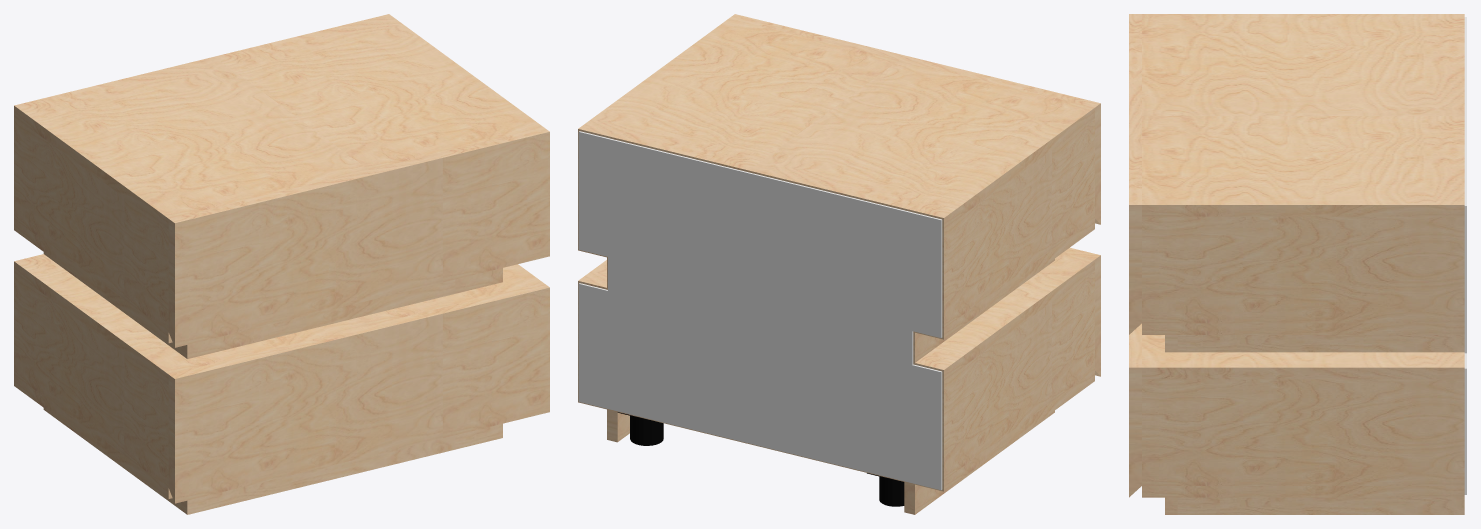
File: Cajonera.glb
The picture shows the model from 3 angles, left to right: view 1: azimuth 30°, elevation 25°; view 2: azimuth 150°, elevation 25°; view 3: azimuth 270°, elevation 25°; orthographic projection. The views are drawn at different scales.
Visible parts, largest first — view 1: Mesh8 Group7 Group1 Model, Mesh9 Diferencia1 Group1 Model, Mesh19 Diferencia1_1 Group1 Model, Mesh21 Group13 Group1 Model, Mesh1 Group2 Group1 Model, Mesh17 Unir2 Group1 Model, Mesh15 Group11 Group1 Model, Mesh4 Group4 Group1 Model, Mesh12 Unir1 Group1 Model, Mesh11 Unir Group1 Model; view 2: Mesh8 Group7 Group1 Model, Mesh18 Group12 Group1 Model, Mesh6 Group5 Group1 Model, Mesh21 Group13 Group1 Model, Mesh1 Group2 Group1 Model, Mesh5 Intersecci_n Group1 Model, Mesh17 Unir2 Group1 Model, Mesh9 Diferencia1 Group1 Model, Mesh11 Unir Group1 Model, Mesh12 Unir1 Group1 Model, Mesh3 Group3 Group1 Model, Mesh19 Diferencia1_1 Group1 Model (+4 smaller); view 3: Mesh8 Group7 Group1 Model, Mesh13 Group9 Group1 Model, Mesh23 Group14 Group1 Model, Mesh17 Unir2 Group1 Model, Mesh10 Group8 Group1 Model, Mesh14 Group10 Group1 Model, Mesh9 Diferencia1 Group1 Model, Mesh11 Unir Group1 Model, Mesh12 Unir1 Group1 Model, Mesh19 Diferencia1_1 Group1 Model, Mesh18 Group12 Group1 Model, Mesh6 Group5 Group1 Model.
Part boxes in pixels (x1=…): Mesh8 Group7 Group1 Model: x1=14, y1=14, x2=543, y2=229; Mesh9 Diferencia1 Group1 Model: x1=168, y1=127, x2=549, y2=347; Mesh19 Diferencia1_1 Group1 Model: x1=168, y1=283, x2=549, y2=503; Mesh21 Group13 Group1 Model: x1=14, y1=117, x2=168, y2=331; Mesh1 Group2 Group1 Model: x1=14, y1=273, x2=168, y2=487; Mesh17 Unir2 Group1 Model: x1=14, y1=254, x2=543, y2=385; Mesh15 Group11 Group1 Model: x1=181, y1=423, x2=502, y2=514; Mesh4 Group4 Group1 Model: x1=181, y1=268, x2=502, y2=358; Mesh12 Unir1 Group1 Model: x1=14, y1=219, x2=172, y2=343; Mesh11 Unir Group1 Model: x1=14, y1=375, x2=172, y2=498; Mesh8 Group7 Group1 Model: x1=578, y1=18, x2=1094, y2=228; Mesh18 Group12 Group1 Model: x1=578, y1=131, x2=942, y2=337; Mesh6 Group5 Group1 Model: x1=578, y1=283, x2=942, y2=490; Mesh21 Group13 Group1 Model: x1=942, y1=119, x2=1094, y2=328; Mesh1 Group2 Group1 Model: x1=942, y1=271, x2=1094, y2=480; Mesh5 Intersecci_n Group1 Model: x1=608, y1=257, x2=913, y2=364; Mesh17 Unir2 Group1 Model: x1=578, y1=252, x2=1094, y2=380; Mesh9 Diferencia1 Group1 Model: x1=729, y1=14, x2=1100, y2=224; Mesh11 Unir Group1 Model: x1=578, y1=370, x2=1094, y2=491; Mesh12 Unir1 Group1 Model: x1=578, y1=218, x2=1094, y2=339; Mesh3 Group3 Group1 Model: x1=904, y1=415, x2=1048, y2=514; Mesh19 Diferencia1_1 Group1 Model: x1=1064, y1=247, x2=1100, y2=376; Mesh8 Group7 Group1 Model: x1=1142, y1=14, x2=1464, y2=216; Mesh13 Group9 Group1 Model: x1=1142, y1=216, x2=1464, y2=323; Mesh23 Group14 Group1 Model: x1=1142, y1=379, x2=1464, y2=485; Mesh17 Unir2 Group1 Model: x1=1142, y1=335, x2=1464, y2=379; Mesh10 Group8 Group1 Model: x1=1177, y1=335, x2=1464, y2=352; Mesh14 Group10 Group1 Model: x1=1177, y1=497, x2=1464, y2=514; Mesh9 Diferencia1 Group1 Model: x1=1129, y1=14, x2=1141, y2=334; Mesh11 Unir Group1 Model: x1=1142, y1=486, x2=1464, y2=497; Mesh12 Unir1 Group1 Model: x1=1142, y1=323, x2=1464, y2=334; Mesh19 Diferencia1_1 Group1 Model: x1=1129, y1=323, x2=1141, y2=497; Mesh18 Group12 Group1 Model: x1=1464, y1=17, x2=1466, y2=332; Mesh6 Group5 Group1 Model: x1=1464, y1=353, x2=1466, y2=494.
Bounding box in the file's own units: 0.63 × 0.5 × 0.471.
Materials: 31 (22 with a texture image).
